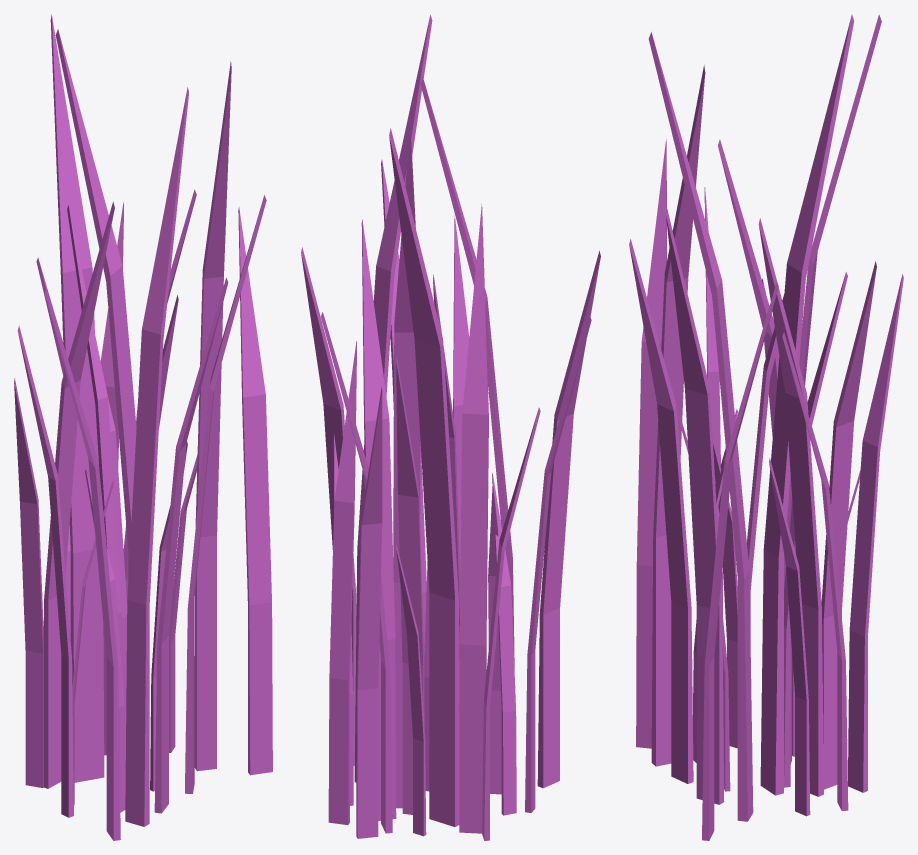
The model's file is NC_Plant04.fbx.
The picture shows the model from 3 angles, left to right: view 1: azimuth 30°, elevation 25°; view 2: azimuth 150°, elevation 25°; view 3: azimuth 270°, elevation 25°; orthographic projection. The views are drawn at different scales.
Parts seen in each view (by area): view 1: NC_Plant04; view 2: NC_Plant04; view 3: NC_Plant04.
Part boxes in pixels (bbox=[...]): NC_Plant04: bbox=[14, 14, 272, 840]; NC_Plant04: bbox=[301, 14, 600, 840]; NC_Plant04: bbox=[629, 14, 903, 840].
Bounding box in the file's own units: 17.97 × 49.57 × 15.92.
1 material, 1 textured.
